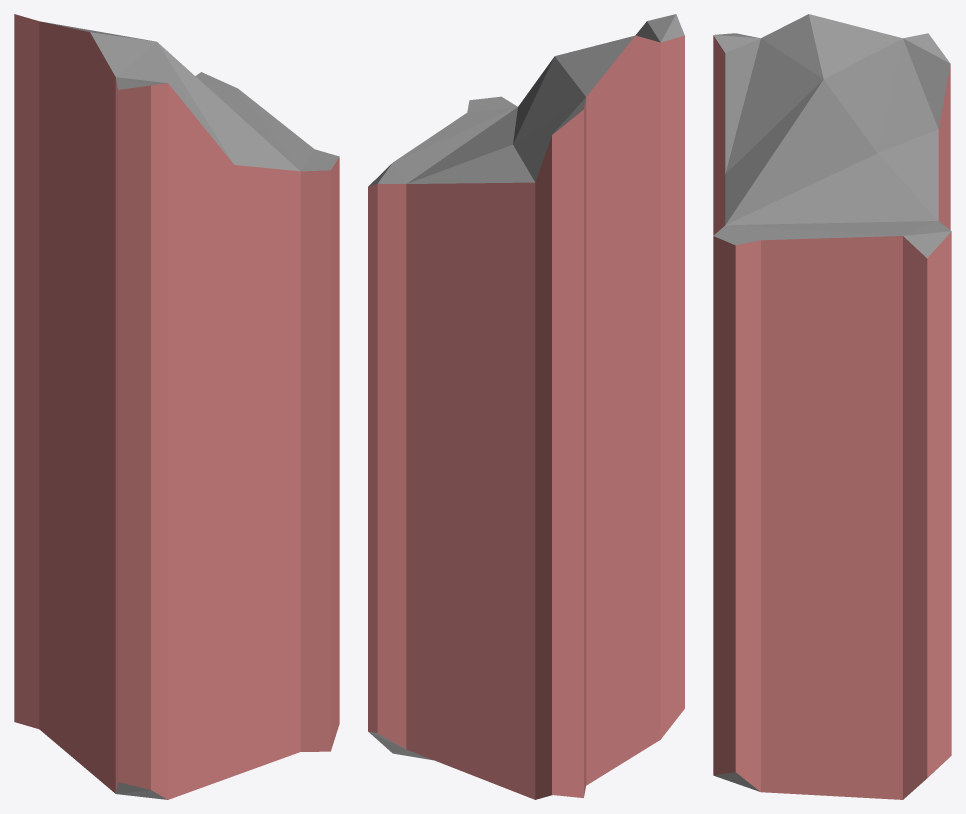
The model's file is skruins_transcept_body03.gltf.
3 renders of one model, left to right at view 1: azimuth 30°, elevation 25°; view 2: azimuth 150°, elevation 25°; view 3: azimuth 270°, elevation 25°, orthographic. The views are drawn at different scales.
Visible parts, largest first — view 1: skruins_transcept_body03; view 2: skruins_transcept_body03; view 3: skruins_transcept_body03.
Part boxes in pixels (x1,y1,x2,y2): skruins_transcept_body03: (14, 14, 339, 799); skruins_transcept_body03: (368, 14, 684, 799); skruins_transcept_body03: (713, 14, 951, 799).
Size of the model in its own units: 0.367 by 1.18 by 0.367.
